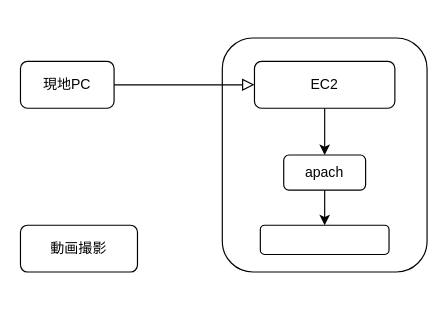
Image size: 448x309. Some labels were removed from this diagram. Here are the shapes that lost their labels. From the top down, the box of each, then its label:
(221, 37, 427, 272): AWS
(259, 224, 389, 254): Flask app server
